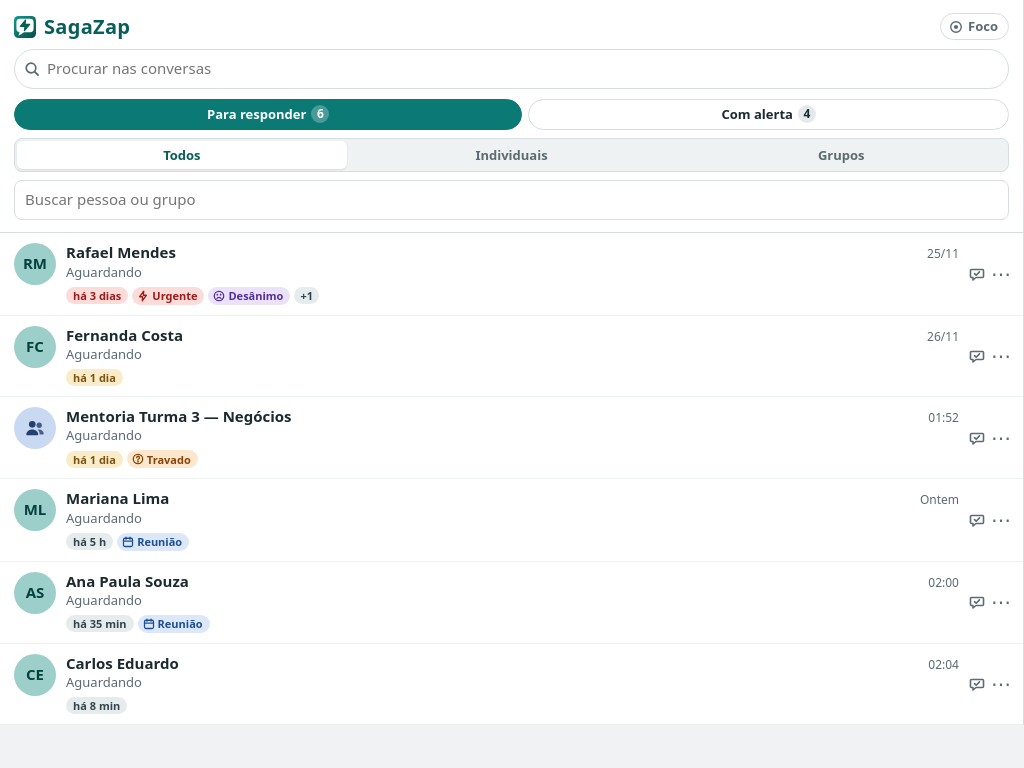
Test: ContactList: "Não precisa responder" em "Para responder" › ação na linha abre o diálogo; Salvar registra o motivo, tira a conversa da lista e agradece
Expected: the button "Para responder 6" is shown, x1=14 y1=99 x2=522 y2=130
Click the button named "Não precisa responder: Ana Paula Souza": {"x": 976, "y": 602} x1=963 y1=589 x2=989 y2=615
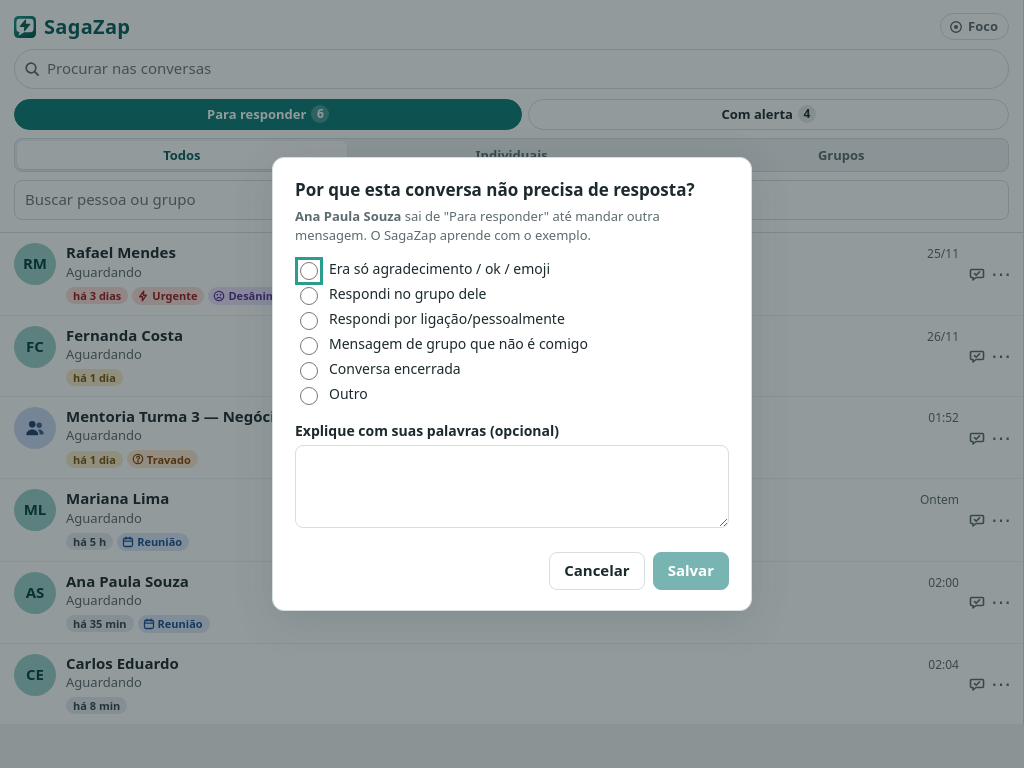
Expected: the button "Salvar" is disabled, x1=653 y1=552 x2=729 y2=590
Click the radio button labelled "Conversa encerrada": {"x": 309, "y": 371} x1=300 y1=362 x2=318 y2=380
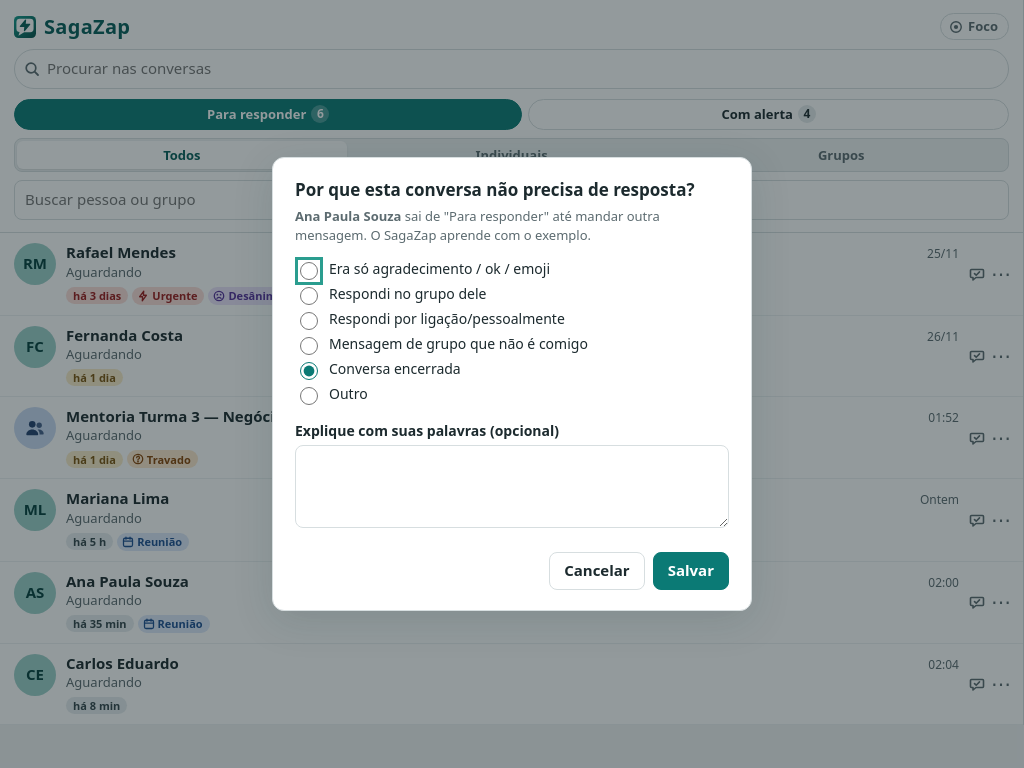
In the text box labelled "Explique com suas palavras (opcional)": {"x": 512, "y": 487} x1=295 y1=445 x2=729 y2=528, type " Já combinamos tudo "
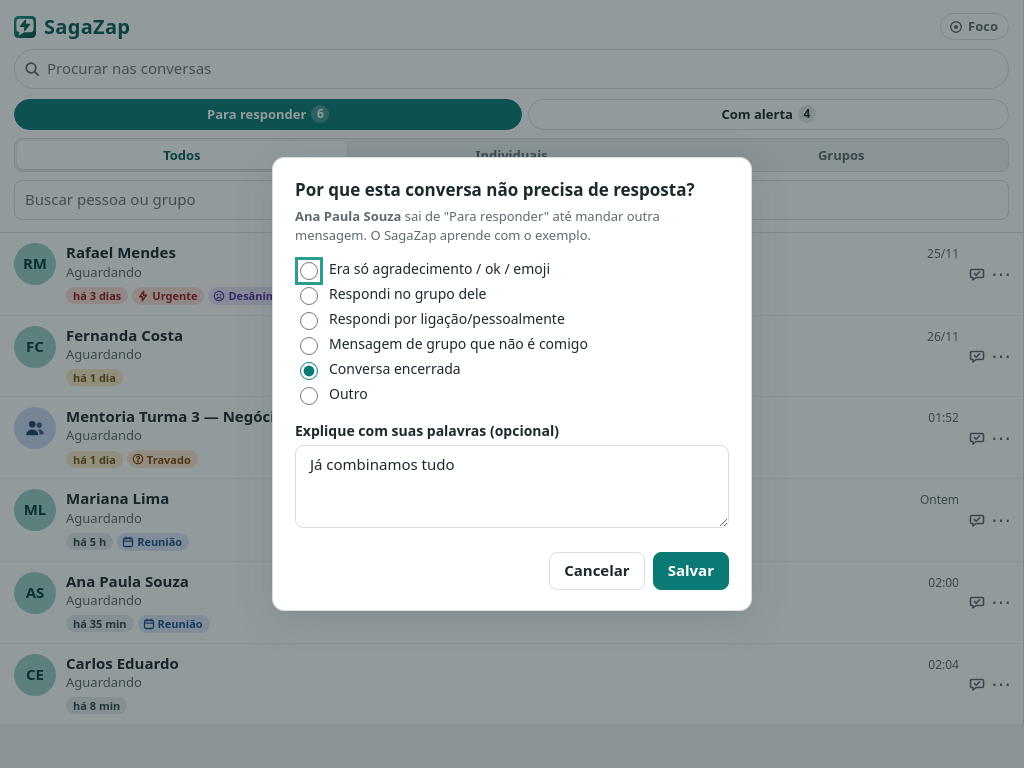
Click the button "Salvar": {"x": 691, "y": 571} x1=653 y1=552 x2=729 y2=590
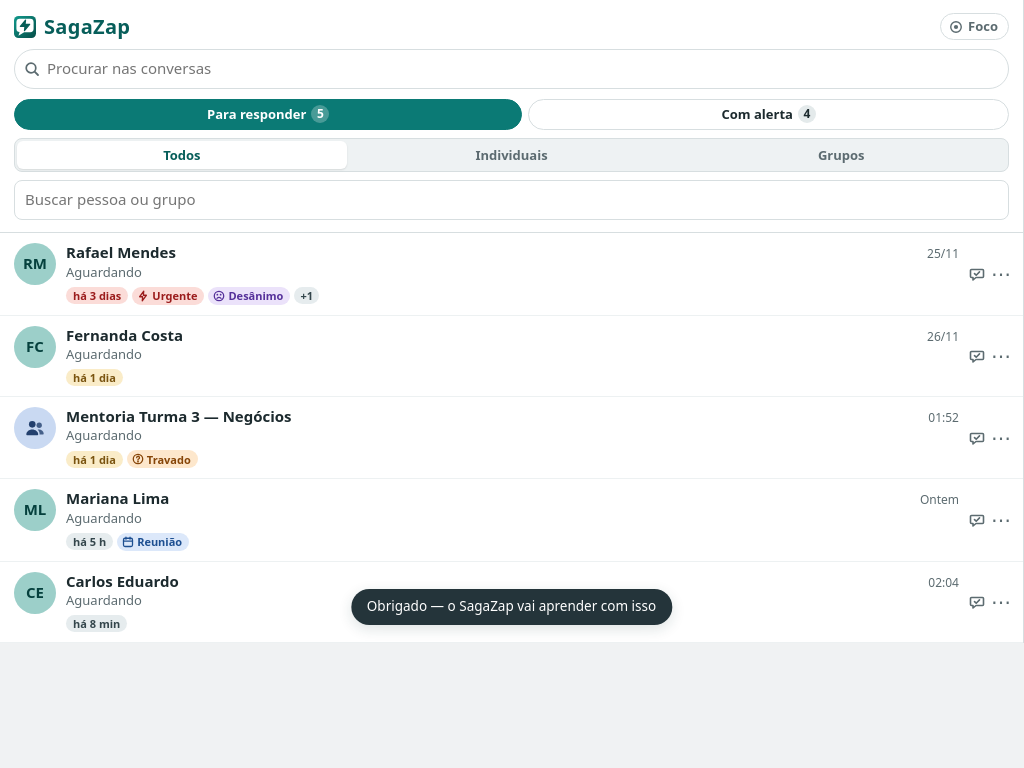
Expected: the dialog is gone
Expected: the message shows "aprender", x1=367 y1=597 x2=656 y2=615
Expected: the button "Para responder 5" is shown, x1=14 y1=99 x2=522 y2=130
